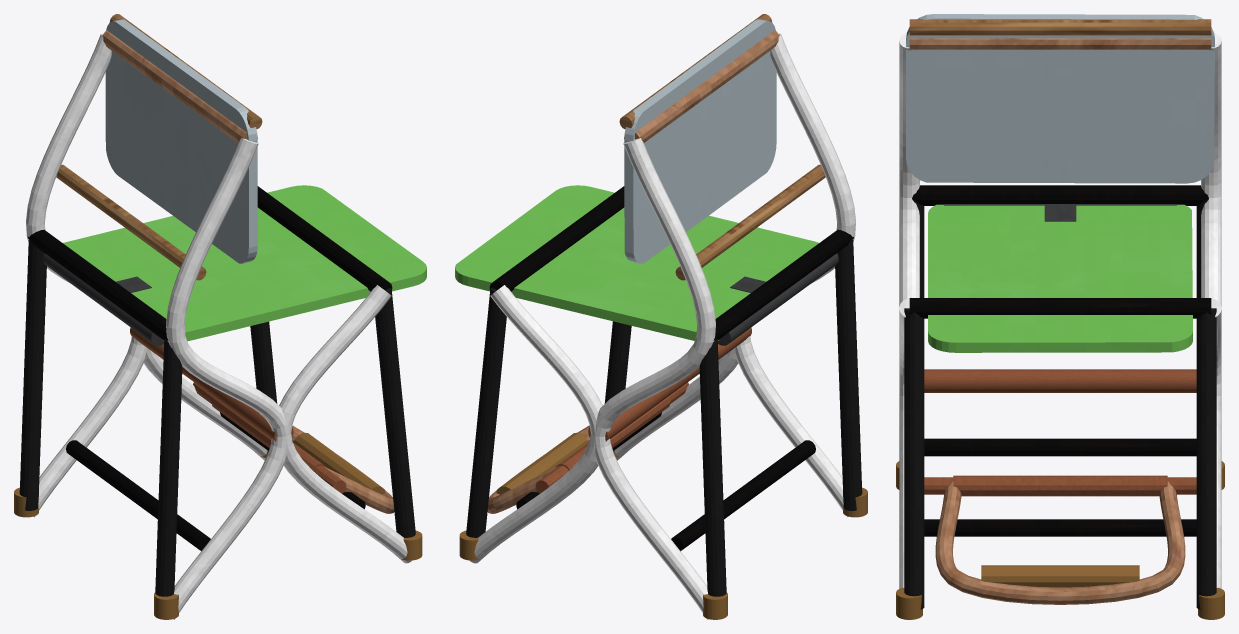
File: Chair_Folding_chair__0547.glb
3 views of the same model, side by side, from view 1: azimuth 30°, elevation 25°; view 2: azimuth 150°, elevation 25°; view 3: azimuth 270°, elevation 25° (orthographic). The views are drawn at different scales.
Visible parts, largest first — view 1: seat_pan::seat_pad, rear_leg_frame::backrest_pad, rear_leg_frame::rear_upright_l, rear_leg_frame::rear_upright_r, front_leg_frame::front_leg_l, rear_leg_frame::rear_triangle_brace_r, rear_leg_frame::rear_triangle_brace_l, front_leg_frame::front_triangle_brace_l, rear_leg_frame::seat_hinge_bar, front_leg_frame::seat_front_rail, rear_leg_frame::back_rail_top, rear_leg_frame::rear_cross_brace (+10 smaller); view 2: seat_pan::seat_pad, rear_leg_frame::backrest_pad, rear_leg_frame::rear_upright_r, rear_leg_frame::rear_upright_l, front_leg_frame::front_leg_r, rear_leg_frame::rear_triangle_brace_l, rear_leg_frame::rear_triangle_brace_r, front_leg_frame::front_triangle_brace_r, rear_leg_frame::seat_hinge_bar, front_leg_frame::seat_front_rail, rear_leg_frame::back_rail_top, rear_leg_frame::rear_cross_brace (+10 smaller); view 3: rear_leg_frame::backrest_pad, seat_pan::seat_pad, footrest_bar::footrest_loop, rear_leg_frame::scissor_bolt, front_leg_frame::front_triangle_brace_l, front_leg_frame::front_triangle_brace_r, rear_leg_frame::seat_hinge_bar, front_leg_frame::seat_front_rail, rear_leg_frame::rear_cross_brace, rear_leg_frame::back_mount_upper, footrest_bar::footrest_hinge_axle, front_leg_frame::front_cross_brace (+12 smaller).
Part boxes in pixels (x1,y1,x2,y2): seat_pan::seat_pad: [63, 185, 426, 341]; rear_leg_frame::backrest_pad: [105, 19, 257, 263]; rear_leg_frame::rear_upright_l: [166, 138, 286, 619]; rear_leg_frame::rear_upright_r: [26, 33, 146, 517]; front_leg_frame::front_leg_l: [279, 285, 412, 563]; rear_leg_frame::rear_triangle_brace_r: [19, 239, 46, 510]; rear_leg_frame::rear_triangle_brace_l: [155, 338, 182, 596]; front_leg_frame::front_triangle_brace_l: [375, 288, 415, 537]; rear_leg_frame::seat_hinge_bar: [28, 229, 168, 340]; front_leg_frame::seat_front_rail: [257, 186, 392, 291]; rear_leg_frame::back_rail_top: [102, 30, 257, 142]; rear_leg_frame::rear_cross_brace: [66, 440, 210, 551]; seat_pan::seat_pad: [455, 185, 818, 340]; rear_leg_frame::backrest_pad: [624, 19, 776, 263]; rear_leg_frame::rear_upright_r: [595, 138, 715, 619]; rear_leg_frame::rear_upright_l: [735, 33, 855, 517]; front_leg_frame::front_leg_r: [469, 285, 602, 563]; rear_leg_frame::rear_triangle_brace_l: [835, 239, 862, 510]; rear_leg_frame::rear_triangle_brace_r: [699, 338, 726, 596]; front_leg_frame::front_triangle_brace_r: [466, 288, 506, 537]; rear_leg_frame::seat_hinge_bar: [713, 229, 853, 340]; front_leg_frame::seat_front_rail: [489, 186, 624, 291]; rear_leg_frame::back_rail_top: [624, 30, 779, 142]; rear_leg_frame::rear_cross_brace: [671, 440, 815, 551]; rear_leg_frame::backrest_pad: [906, 14, 1214, 183]; seat_pan::seat_pad: [928, 204, 1192, 352]; footrest_bar::footrest_loop: [935, 481, 1185, 604]; rear_leg_frame::scissor_bolt: [924, 369, 1196, 392]; front_leg_frame::front_triangle_brace_l: [904, 308, 924, 609]; front_leg_frame::front_triangle_brace_r: [1196, 308, 1216, 609]; rear_leg_frame::seat_hinge_bar: [912, 185, 1208, 205]; front_leg_frame::seat_front_rail: [909, 298, 1211, 318]; rear_leg_frame::rear_cross_brace: [924, 438, 1196, 456]; rear_leg_frame::back_mount_upper: [909, 19, 1211, 35]; footrest_bar::footrest_hinge_axle: [953, 475, 1167, 496]; front_leg_frame::front_cross_brace: [924, 519, 1196, 536].
Size of the model in its own units: 0.452 by 0.7218 by 0.4129.
10 materials, 10 textured.
